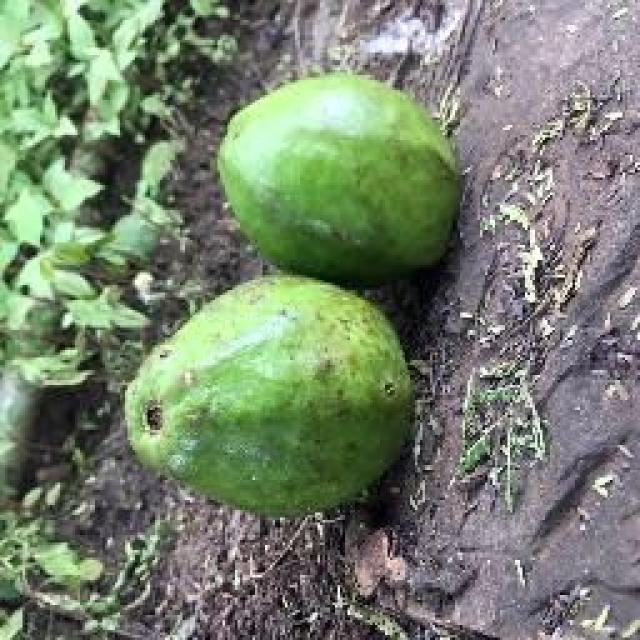Good_Guava: (125, 275, 412, 518), (215, 72, 462, 295)
